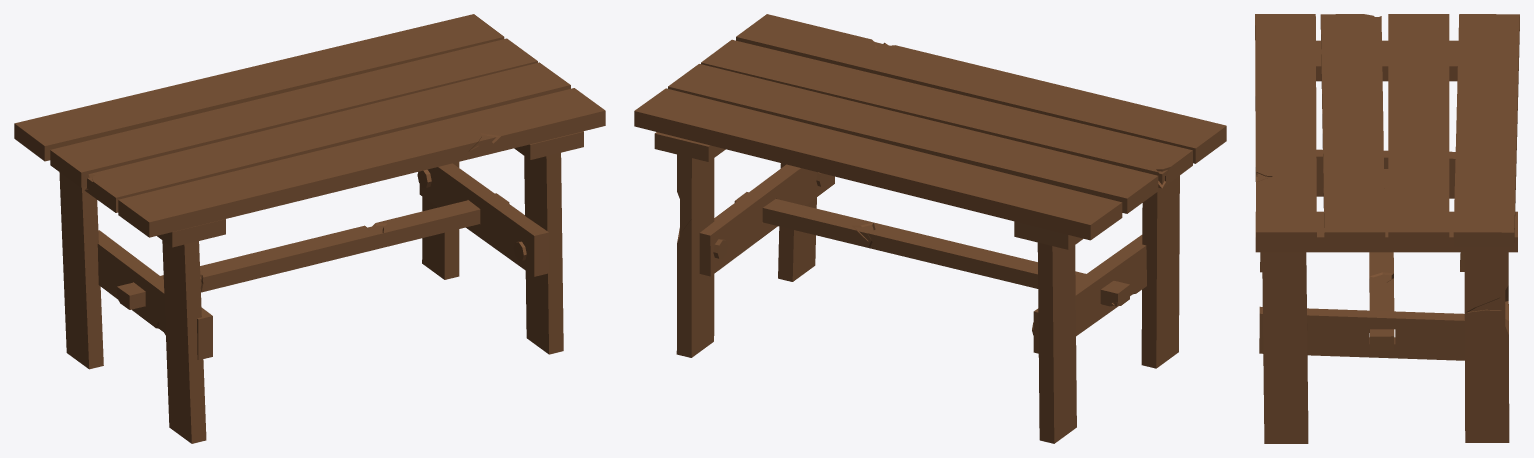
The model's file is KitchenTable.fbx.
3 views of the same model, side by side, from view 1: azimuth 30°, elevation 25°; view 2: azimuth 150°, elevation 25°; view 3: azimuth 270°, elevation 25° (orthographic). The views are drawn at different scales.
Parts seen in each view (by area): view 1: Table; view 2: Table; view 3: Table.
Part boxes in pixels (left/top/right/bottom): Table: left=14, top=14, right=605, bottom=443; Table: left=634, top=14, right=1226, bottom=443; Table: left=1255, top=14, right=1519, bottom=443.
Bounding box in the file's own units: 204 × 99.84 × 104.
